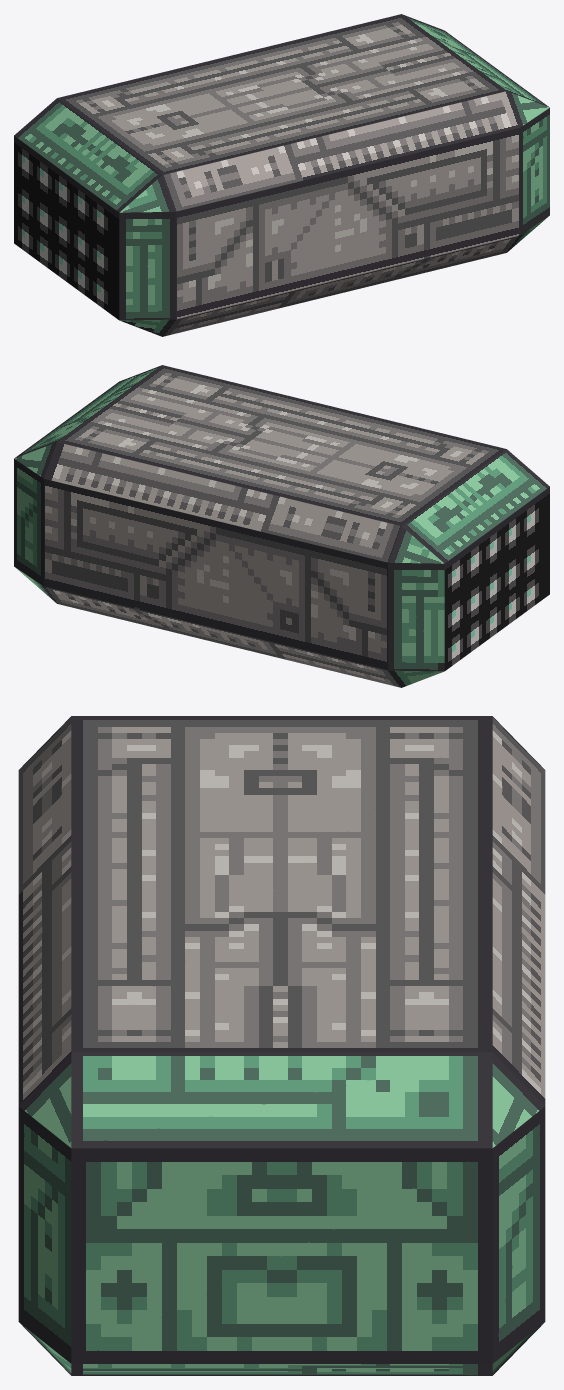
The model's file is ShoulderRocket.gltf.
3 views of the same model, one above another, from view 1: azimuth 30°, elevation 25°; view 2: azimuth 150°, elevation 25°; view 3: azimuth 270°, elevation 25° (orthographic). The views are drawn at different scales.
Visible parts, largest first — view 1: Rocket; view 2: Rocket; view 3: Rocket.
Part boxes in pixels (x1=…): Rocket: x1=14, y1=14, x2=549, y2=336; Rocket: x1=14, y1=365, x2=549, y2=687; Rocket: x1=18, y1=716, x2=545, y2=1375.
Bounding box in the file's own units: 1.06 × 0.3813 × 0.5625.
Materials: 1 (1 with a texture image).
